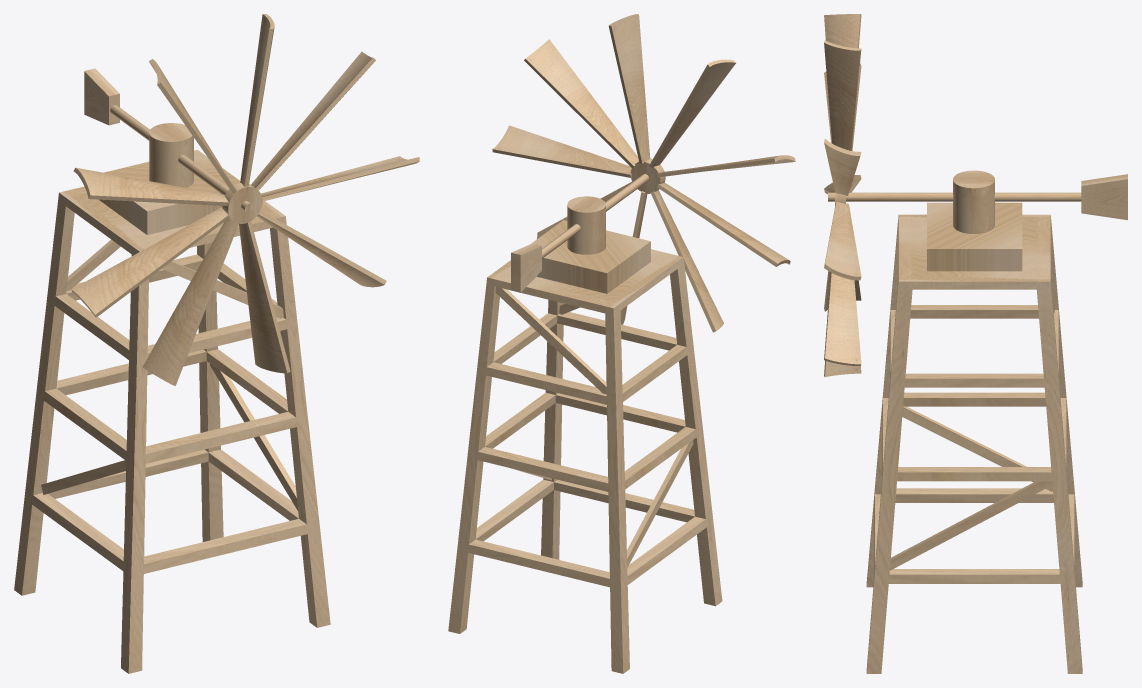
Rendered from Moinho.fbx.
The picture shows the model from 3 angles, left to right: view 1: azimuth 30°, elevation 25°; view 2: azimuth 150°, elevation 25°; view 3: azimuth 270°, elevation 25°; orthographic projection. The views are drawn at different scales.
Parts seen in each view (by area): view 1: Cube.017, Cylinder.003; view 2: Cube.017, Cylinder.003; view 3: Cube.017, Cylinder.003.
Boxes of the visible parts, x1,y1,x2,y2 form: Cube.017: (14, 68, 330, 673); Cylinder.003: (71, 14, 419, 385); Cube.017: (448, 174, 722, 673); Cylinder.003: (492, 14, 795, 332); Cube.017: (828, 170, 1127, 673); Cylinder.003: (824, 14, 861, 377).
Size of the model in its own units: 940 by 1717 by 794.
